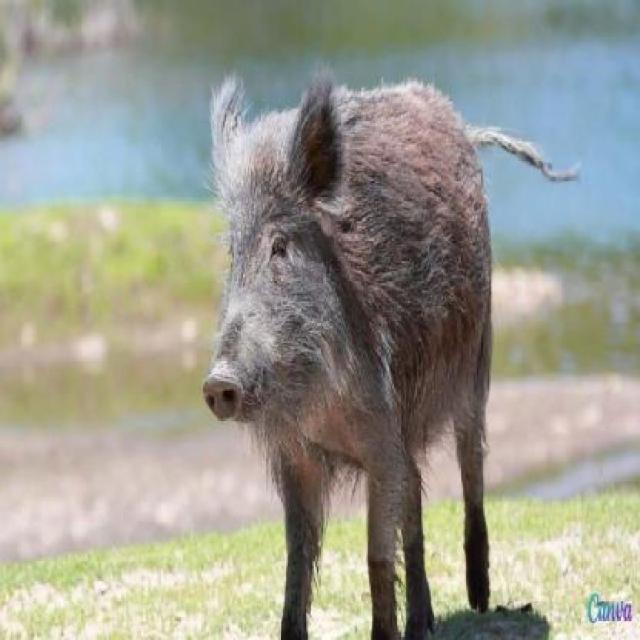wildboar: (198, 64, 583, 640)
